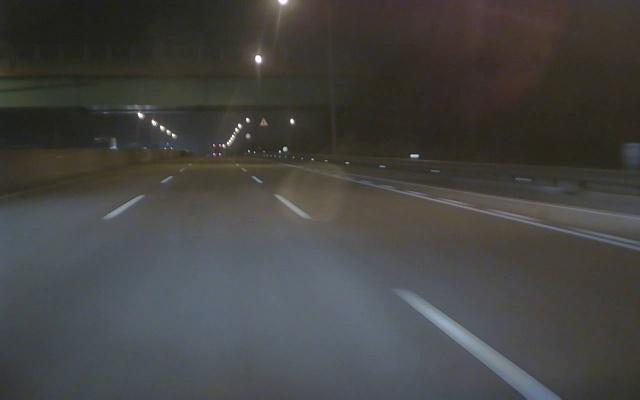lane: (254, 175, 562, 399), (365, 178, 640, 254), (96, 174, 175, 222)
